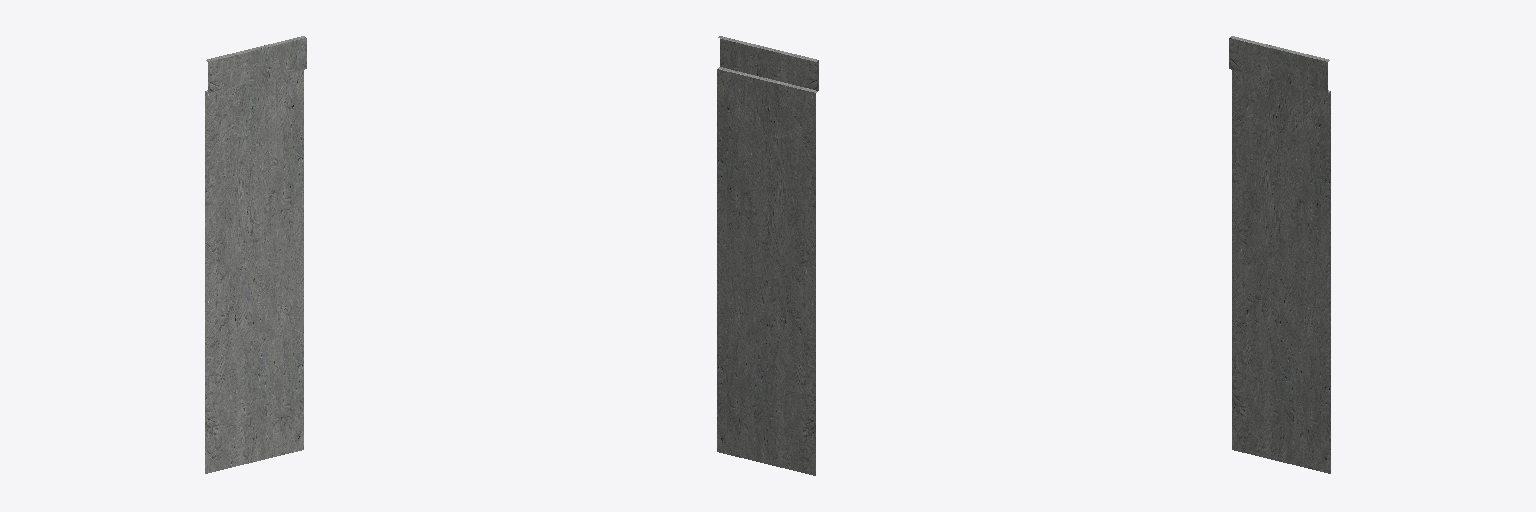
3 views of the same model, side by side, from view 1: azimuth 30°, elevation 25°; view 2: azimuth 150°, elevation 25°; view 3: azimuth 330°, elevation 25° (orthographic).
Parts seen in each view (by area): view 1: Plane; view 2: Plane; view 3: Plane.
Part boxes in pixels (bbox=[...]): Plane: bbox=[205, 36, 306, 473]; Plane: bbox=[717, 36, 818, 475]; Plane: bbox=[1229, 36, 1330, 473].
Bounding box in the file's own units: 2 × 8 × 0.1.
Materials: 2 (1 with a texture image).